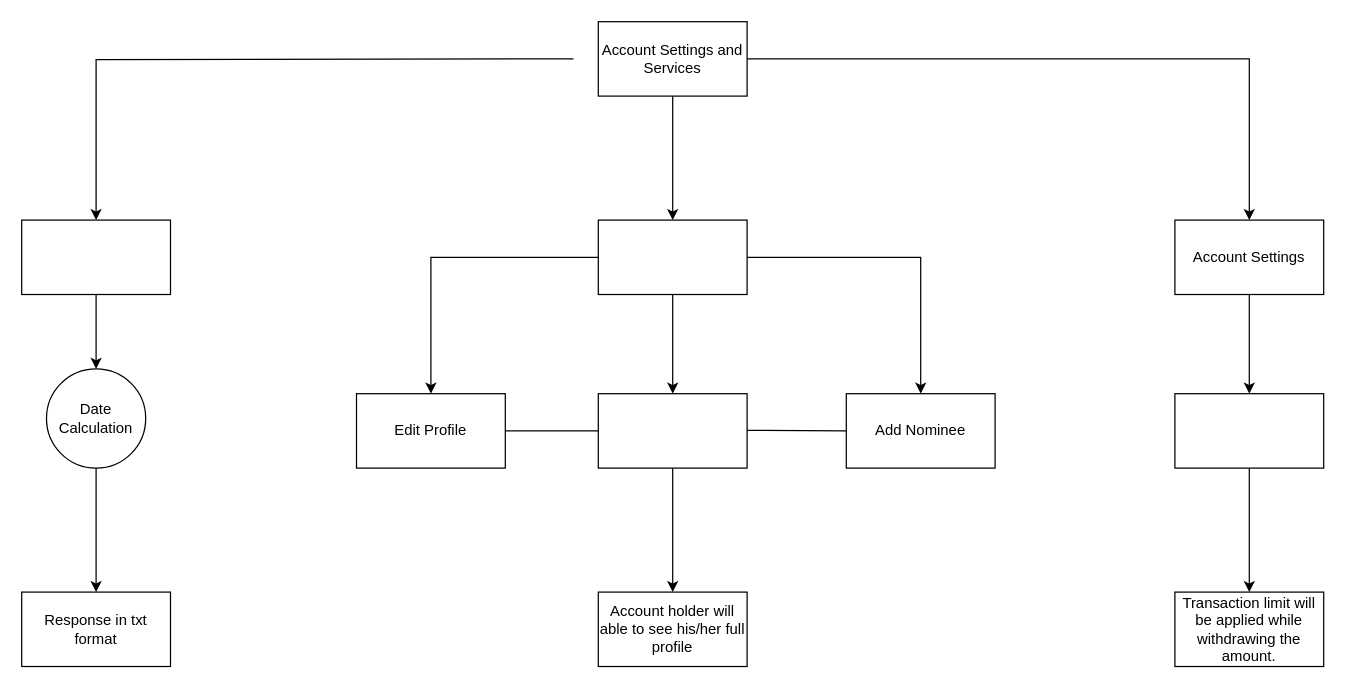
Some shapes in this 1345 by 688 pixel diagram are drawn without their labels. Here are the shapes that lost their labels. From the top down, the centre of each, then its label:
At pixel 95 256: "Passbook Download".
At pixel 672 256: "Profile Settings".
At pixel 672 430: "View Profile".
At pixel 1249 430: "Transcion limit set".
